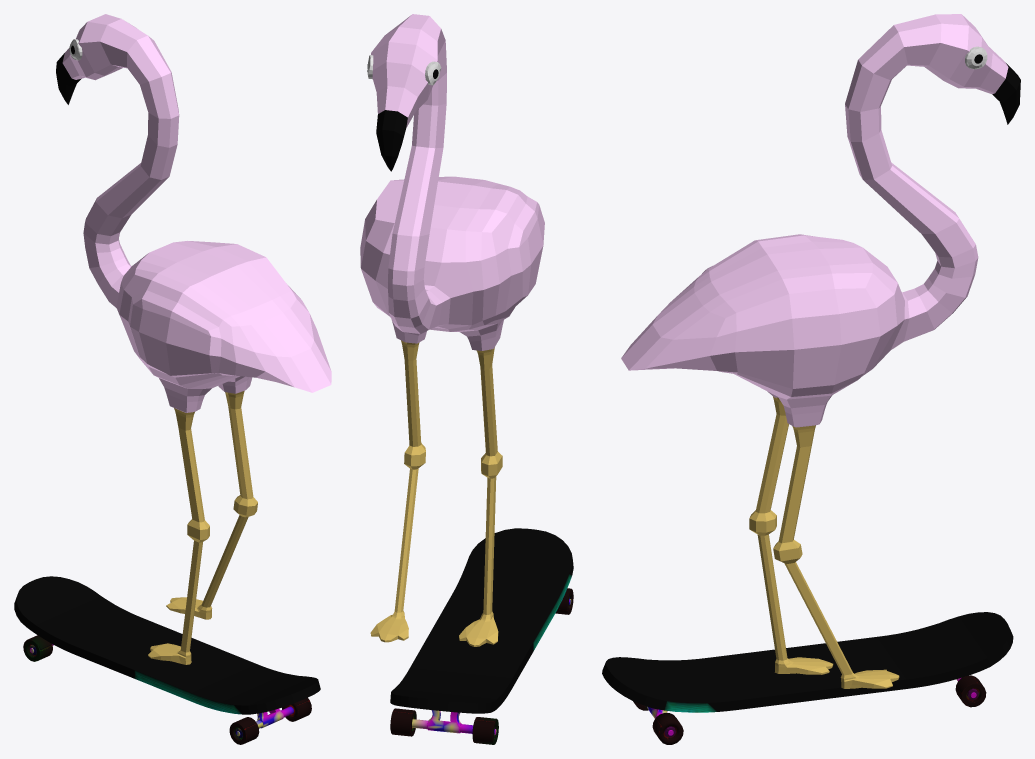
The model's file is Flamingo_02-transformed.glb.
3 renders of one model, left to right at view 1: azimuth 30°, elevation 25°; view 2: azimuth 150°, elevation 25°; view 3: azimuth 270°, elevation 25°, orthographic. The views are drawn at different scales.
Parts seen in each view (by area): view 1: Flamingo, skateboard, wheels, Wheels Base, wheels2; view 2: Flamingo, skateboard, wheels2, Wheels Base; view 3: Flamingo, skateboard, wheels.
Boxes of the visible parts, x1,y1,x2,y2 form: Flamingo: (56,14,331,664); skateboard: (14,576,320,714); wheels: (229,697,311,744); Wheels Base: (29,644,293,738); wheels2: (23,635,52,661); Flamingo: (360,14,544,646); skateboard: (390,528,573,713); wheels2: (390,708,498,744); Wheels Base: (412,596,571,736); Flamingo: (621,14,1020,688); skateboard: (602,612,1013,712); wheels: (633,701,683,744).
Size of the model in its own units: 0.3105 by 1 by 0.5524.
5 materials, 1 textured.
